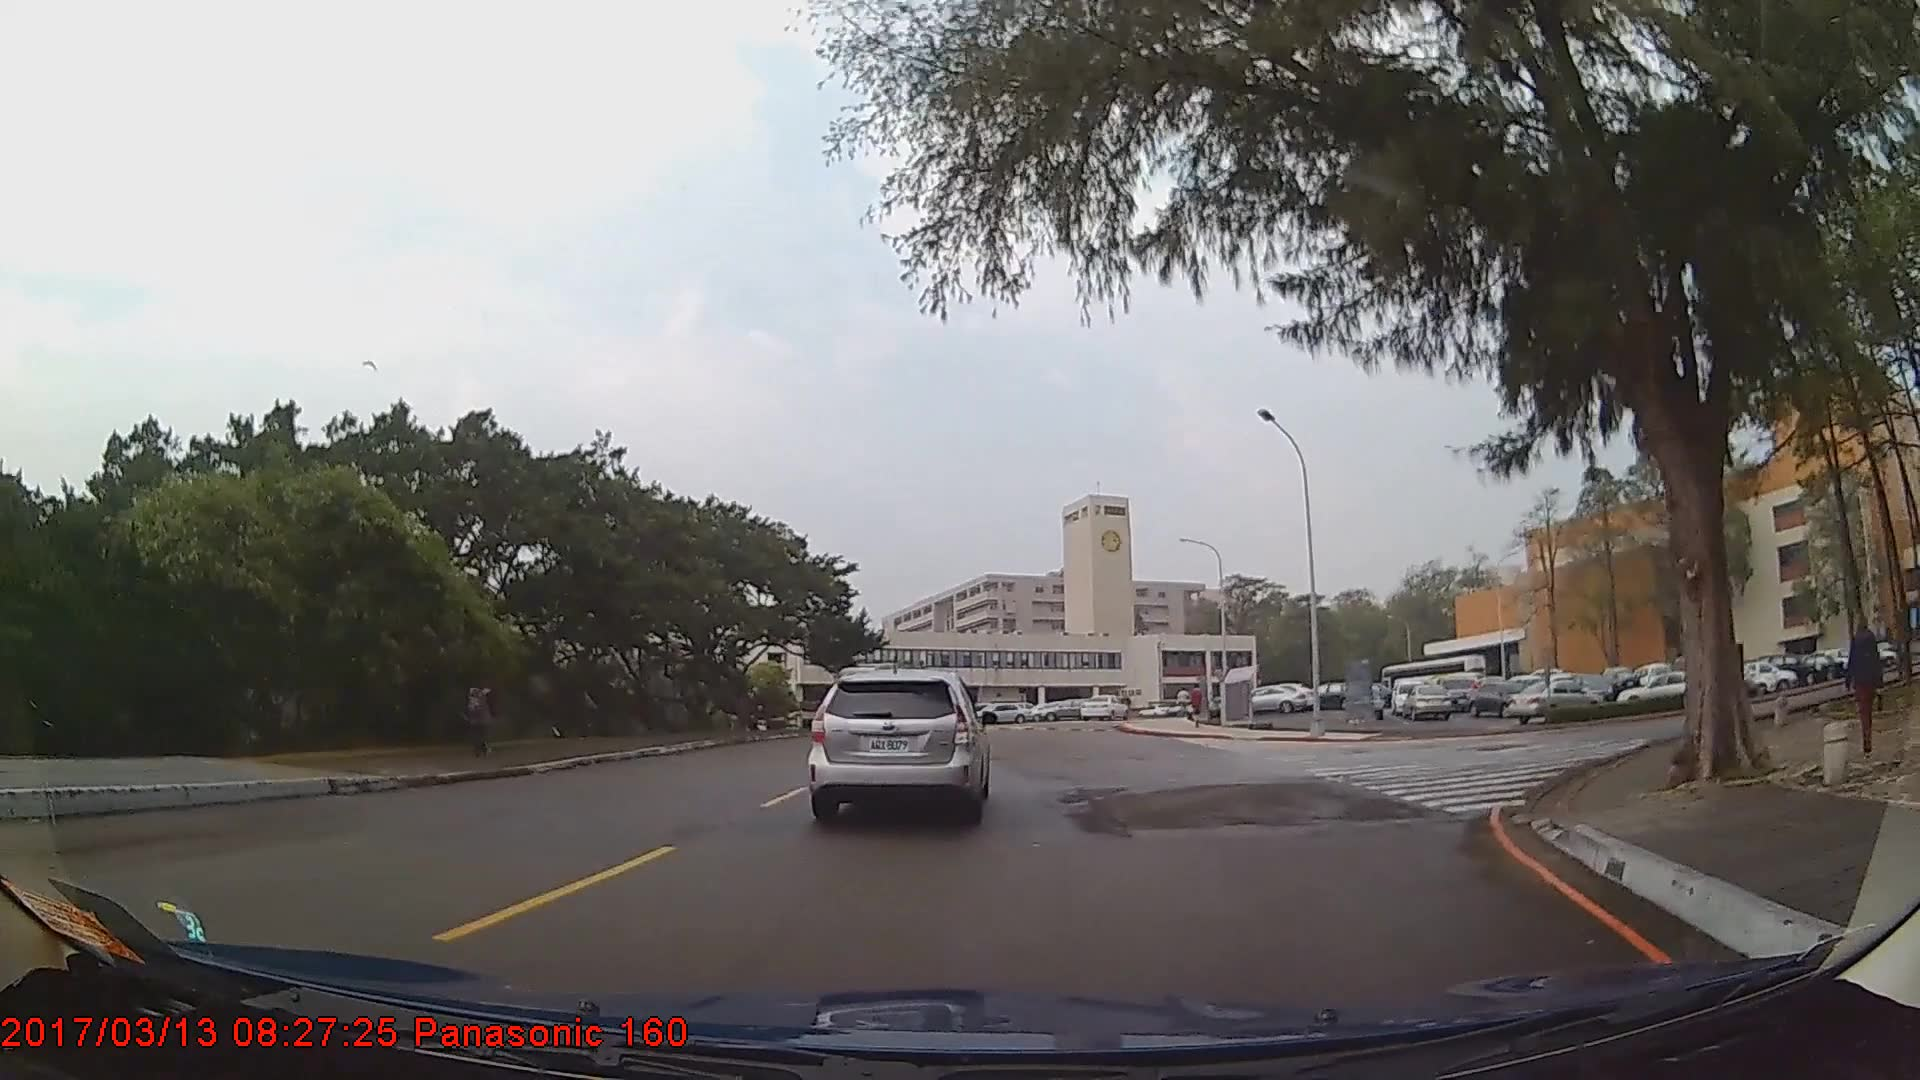pedestrian: (1841, 622, 1887, 754), (460, 668, 502, 756)
vehicle: (809, 666, 988, 823), (1505, 676, 1601, 724), (1617, 667, 1712, 715), (1466, 675, 1542, 716), (1402, 680, 1451, 720), (1237, 684, 1306, 712), (1438, 673, 1479, 714), (1033, 697, 1098, 721), (1079, 692, 1129, 721), (974, 699, 1031, 721)
